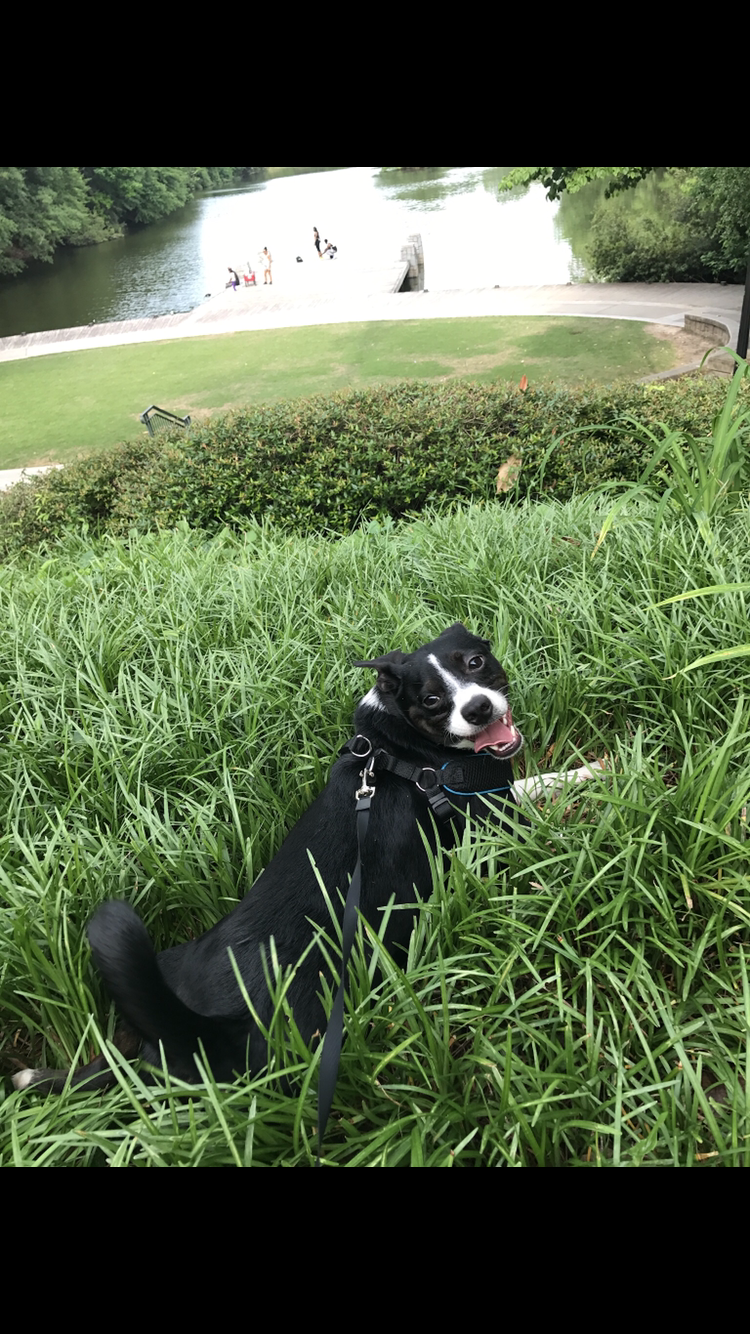Harley: (12, 607, 645, 1119)
